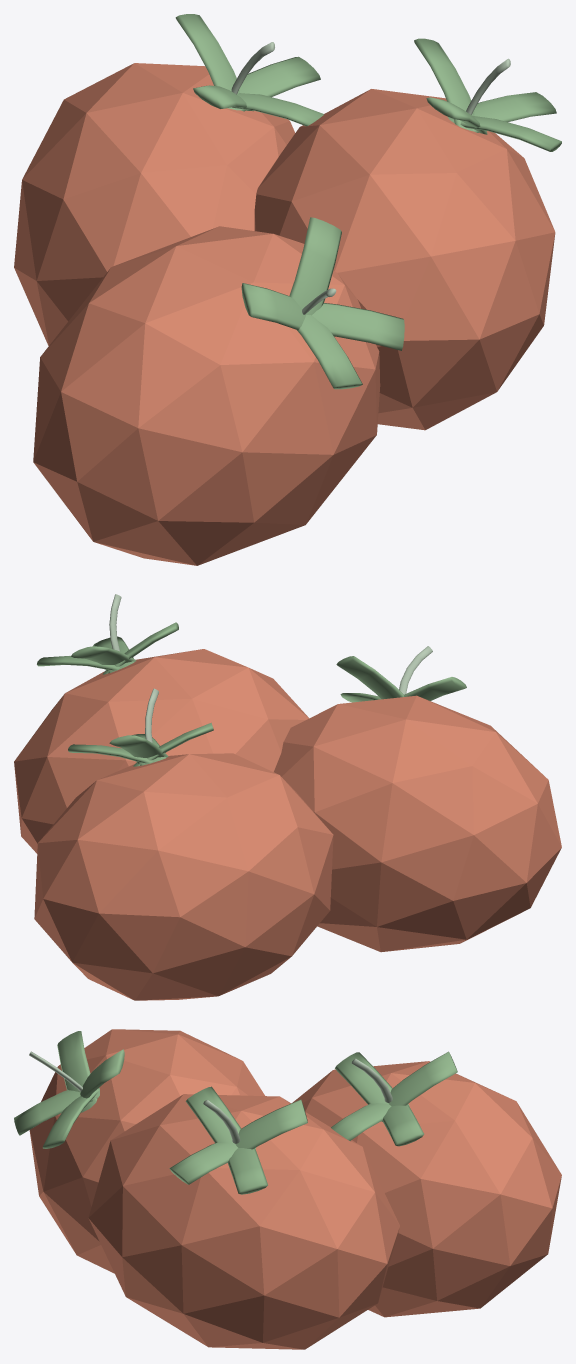
File: tomatoes.dae
3 renders of one model, top to bottom at view 1: azimuth 30°, elevation 25°; view 2: azimuth 150°, elevation 25°; view 3: azimuth 270°, elevation 25°, orthographic. The views are drawn at different scales.
Parts seen in each view (by area): view 1: Tomatoes; view 2: Tomatoes; view 3: Tomatoes.
Part boxes in pixels (<box>): Tomatoes: <box>14,14,561,565</box>; Tomatoes: <box>14,594,561,1000</box>; Tomatoes: <box>14,1029,561,1349</box>.
Size of the model in its own units: 0.2087 by 0.2208 by 0.1339.
